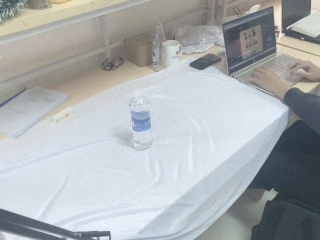bottle: (129, 95, 153, 150), (151, 22, 166, 71)
cup: (161, 40, 183, 67)
phone: (189, 53, 221, 71)
